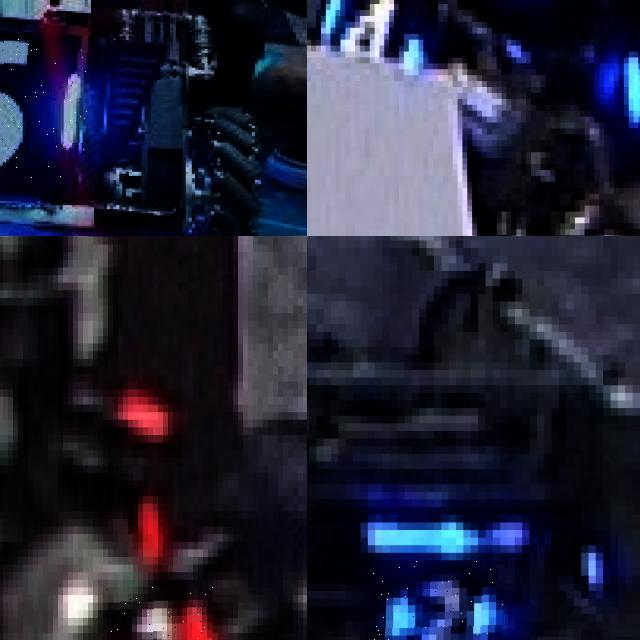B2: (367, 560, 507, 640)
B4: (307, 0, 426, 110), (599, 7, 640, 149)
B5: (0, 36, 91, 178)
R3: (103, 587, 213, 640)
